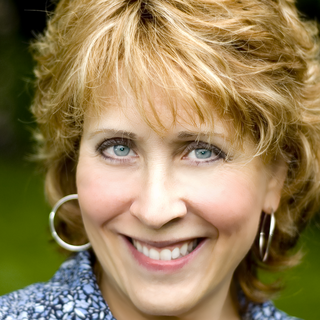eye: (90, 134, 143, 168), (175, 136, 231, 168)
